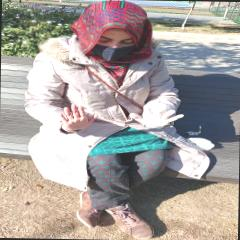gloved: (126, 104, 183, 130)
not-gloved: (55, 104, 95, 132)
